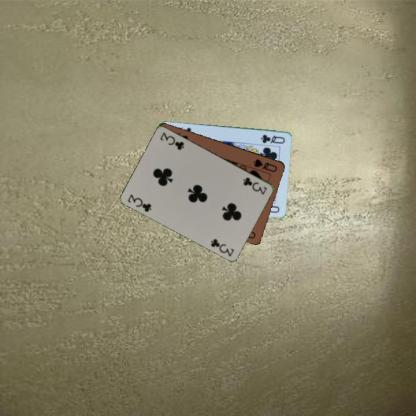3c: (240, 174, 268, 196), (125, 191, 152, 213)
Qc: (258, 132, 286, 144)
Qs: (251, 156, 278, 173)
